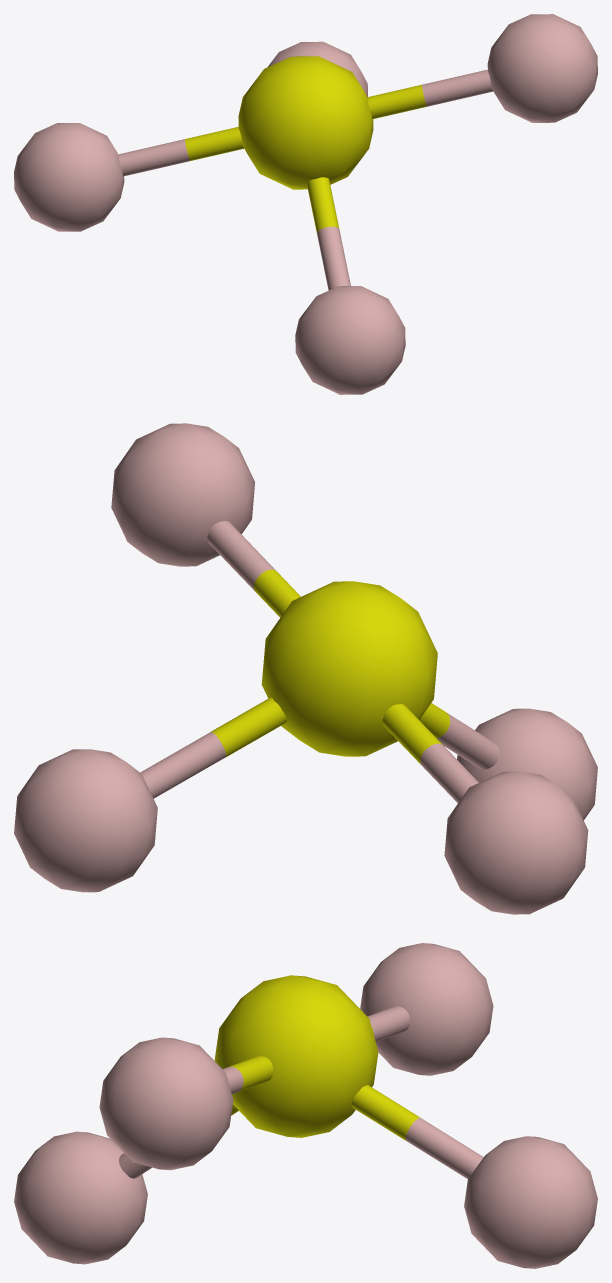
The picture shows the model from 3 angles, top to bottom: view 1: azimuth 30°, elevation 25°; view 2: azimuth 150°, elevation 25°; view 3: azimuth 270°, elevation 25°; orthographic projection. The views are drawn at different scales.
Parts seen in each view (by area): view 1: vmd_mol3_rep0; view 2: vmd_mol3_rep0; view 3: vmd_mol3_rep0.
Part boxes in pixels (left/top/right/bottom): vmd_mol3_rep0: left=14, top=14, right=597, bottom=394; vmd_mol3_rep0: left=14, top=423, right=597, bottom=914; vmd_mol3_rep0: left=14, top=943, right=597, bottom=1268.
Size of the model in its own units: 1.69 by 1.01 by 1.55.
